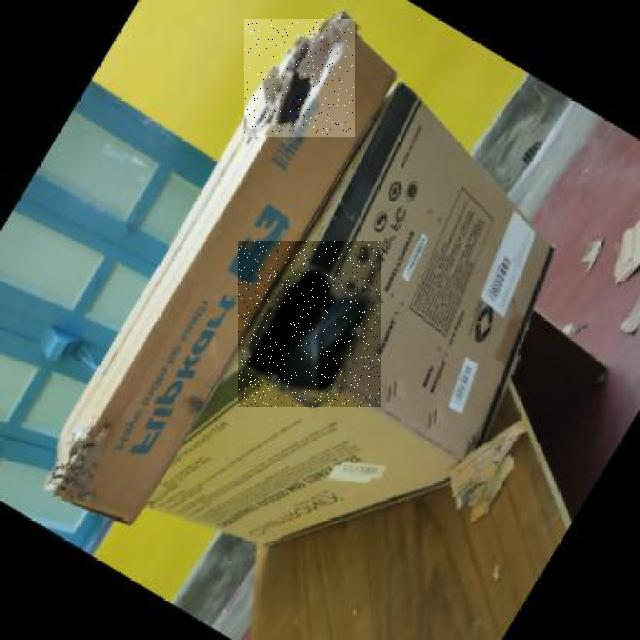leakage: (238, 241, 380, 407), (245, 20, 354, 135)
